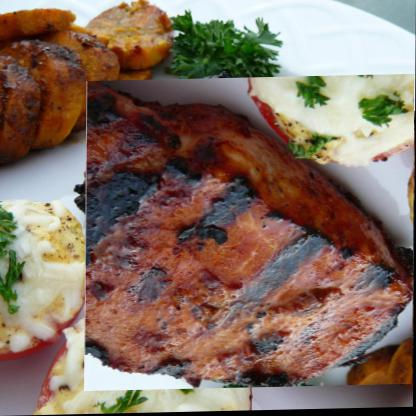cooked_meat: (85, 75, 415, 392)
